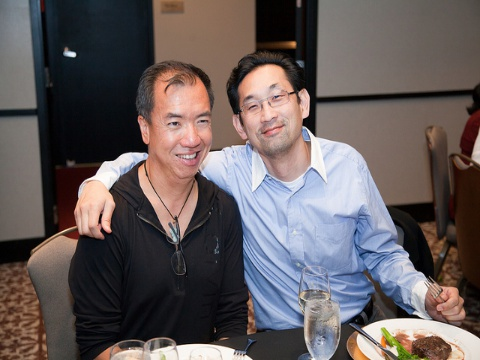hand: (74, 183, 114, 240)
